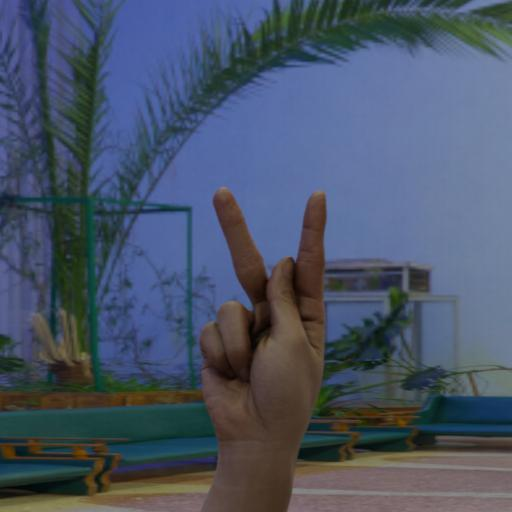K: (195, 186, 333, 458)
